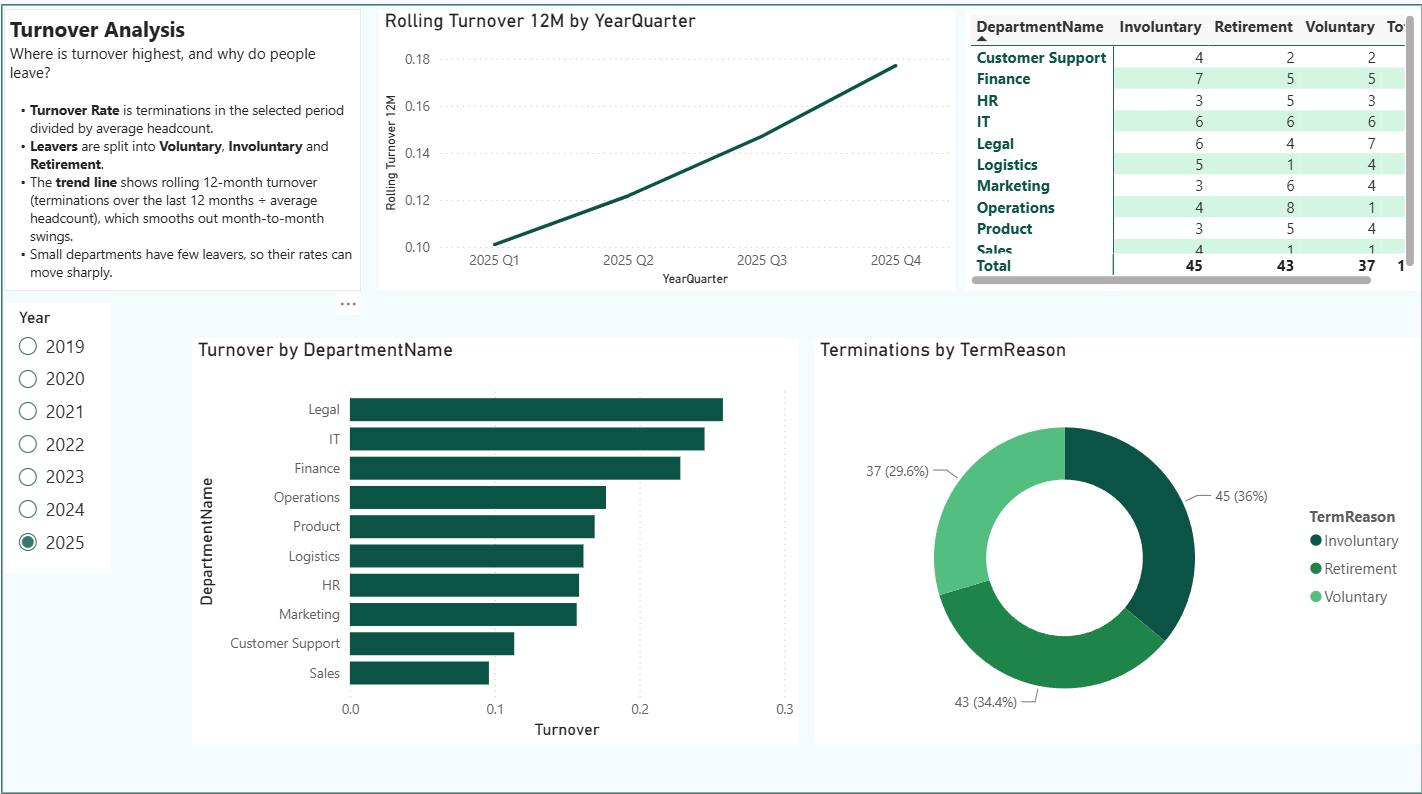

This screenshot's page, from the dashboard's own definition file:
{"tool":"powerbi","page":{"name":"Turnover Analysis","canvas":[1280,720],"ordinal":1},"visuals":[{"type":"shape","box":[0,0,1280.4,720],"z":0},{"type":"barChart","fields":{"Y":["(_Measures).Turnover"],"Category":["dim_department.DepartmentName"]},"box":[179.1,305.9,538.2,360],"z":1000},{"type":"donutChart","fields":{"Category":["fact_employee_master.TermReason"],"Y":["(_Measures).Terminations"]},"box":[730.6,305.9,538.2,360],"z":2000},{"type":"slicer","fields":{"Values":["Calendar.Year"]},"box":[12.4,275,95,240],"z":3000},{"type":"lineChart","fields":{"Category":["Calendar.YearQuarter"],"Y":["(_Measures).Rolling Turnover 12M"]},"box":[344.9,14.2,510.7,250],"z":4000},{"type":"pivotTable","fields":{"Rows":["dim_department.DepartmentName"],"Values":["(_Measures).Terminations"],"Columns":["fact_employee_master.TermReason"]},"box":[864.5,14.2,404.3,250],"z":5000},{"type":"textbox","box":[12.4,14.2,316.9,249.7],"z":6000}]}

Visuals, with their boxes in screenshot pixels (x1, y1, x2, y2), scaled from the page's 1280x720 canvas onto the 1422x794 screenshot:
shape: Rect(0, 0, 1421, 793)
barChart - (_Measures).Turnover x dim_department.DepartmentName: Rect(199, 337, 797, 734)
donutChart - fact_employee_master.TermReason x (_Measures).Terminations: Rect(812, 337, 1410, 734)
slicer - Calendar.Year: Rect(14, 303, 119, 568)
lineChart - Calendar.YearQuarter x (_Measures).Rolling Turnover 12M: Rect(383, 16, 951, 291)
pivotTable - dim_department.DepartmentName x (_Measures).Terminations: Rect(960, 16, 1410, 291)
textbox: Rect(14, 16, 366, 291)
